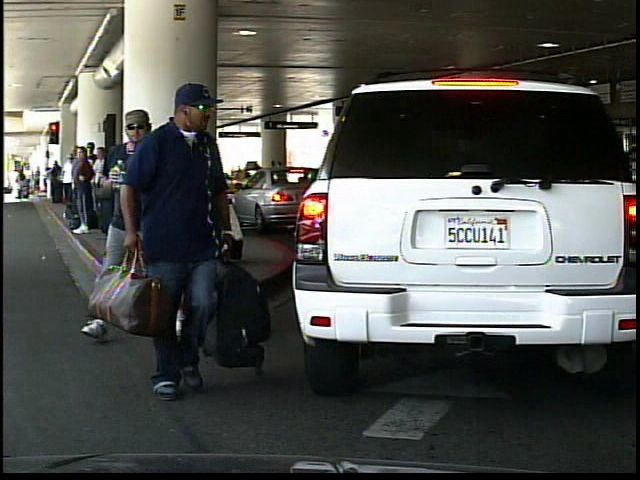person: (142, 81, 271, 409), (97, 100, 180, 335), (165, 132, 222, 265)
